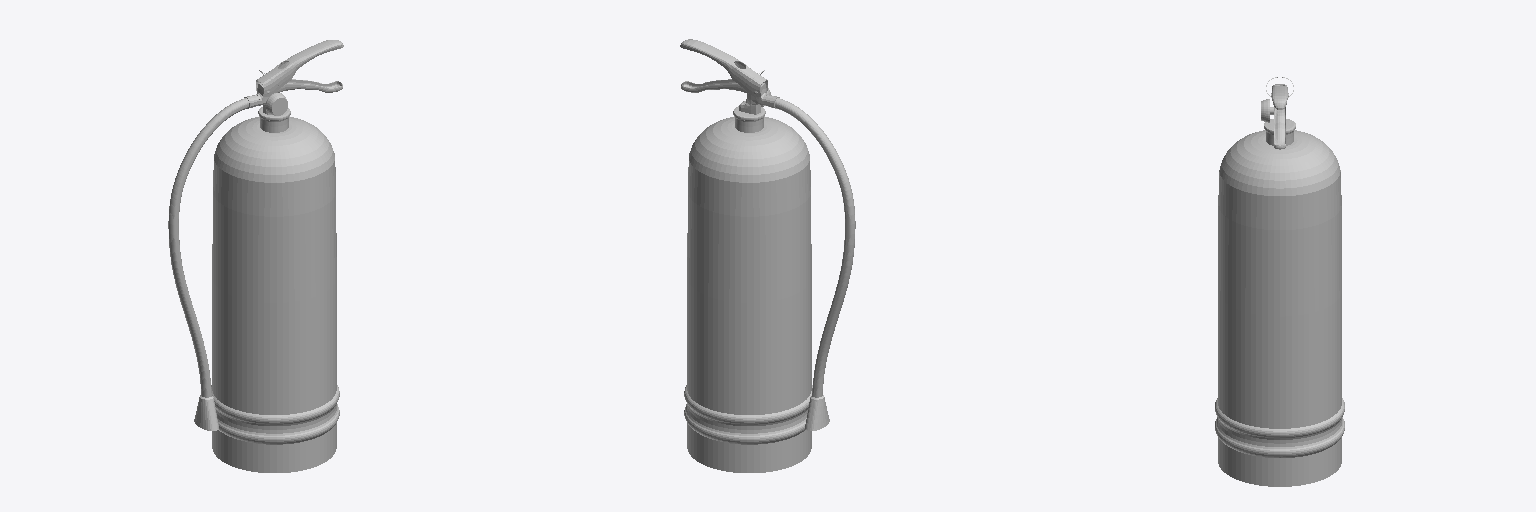
Rendered from Extintor.obj.
The picture shows the model from 3 angles: view 1: azimuth 30°, elevation 25°; view 2: azimuth 150°, elevation 25°; view 3: azimuth 270°, elevation 25°; orthographic projection.
Visible parts, largest first — view 1: Mesh1 Group2 Group1 Component_3__11_1 Model, Mesh32 Group6 Group1 Component_3__11_1 Model, Mesh44 Group9 Group1 Component_3__11_1 Model, Mesh64 Group12 Group1 Component_3__11_1 Model, Mesh35 Group7 Group1 Component_3__11_1 Model, Mesh6 Group3 Group1 Component_3__11_1 Model; view 2: Mesh1 Group2 Group1 Component_3__11_1 Model, Mesh32 Group6 Group1 Component_3__11_1 Model, Mesh44 Group9 Group1 Component_3__11_1 Model, Mesh64 Group12 Group1 Component_3__11_1 Model, Mesh6 Group3 Group1 Component_3__11_1 Model, Mesh35 Group7 Group1 Component_3__11_1 Model; view 3: Mesh1 Group2 Group1 Component_3__11_1 Model.
Part boxes in pixels (bbox=[...]): Mesh1 Group2 Group1 Component_3__11_1 Model: bbox=[211, 116, 339, 472]; Mesh32 Group6 Group1 Component_3__11_1 Model: bbox=[168, 98, 248, 397]; Mesh44 Group9 Group1 Component_3__11_1 Model: bbox=[256, 40, 343, 96]; Mesh64 Group12 Group1 Component_3__11_1 Model: bbox=[194, 395, 218, 430]; Mesh35 Group7 Group1 Component_3__11_1 Model: bbox=[258, 79, 342, 92]; Mesh6 Group3 Group1 Component_3__11_1 Model: bbox=[258, 107, 290, 132]; Mesh1 Group2 Group1 Component_3__11_1 Model: bbox=[684, 116, 812, 472]; Mesh32 Group6 Group1 Component_3__11_1 Model: bbox=[775, 98, 855, 397]; Mesh44 Group9 Group1 Component_3__11_1 Model: bbox=[680, 39, 767, 96]; Mesh64 Group12 Group1 Component_3__11_1 Model: bbox=[805, 395, 829, 430]; Mesh6 Group3 Group1 Component_3__11_1 Model: bbox=[733, 106, 765, 132]; Mesh35 Group7 Group1 Component_3__11_1 Model: bbox=[681, 79, 765, 93]; Mesh1 Group2 Group1 Component_3__11_1 Model: bbox=[1215, 130, 1344, 486].
Bounding box in the file's own units: 1.1 × 2.37 × 0.7165.